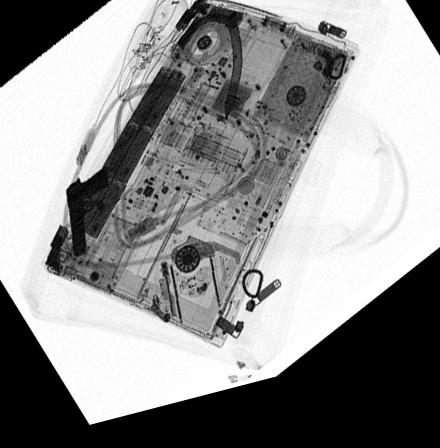Gun: (64, 175, 110, 259)
